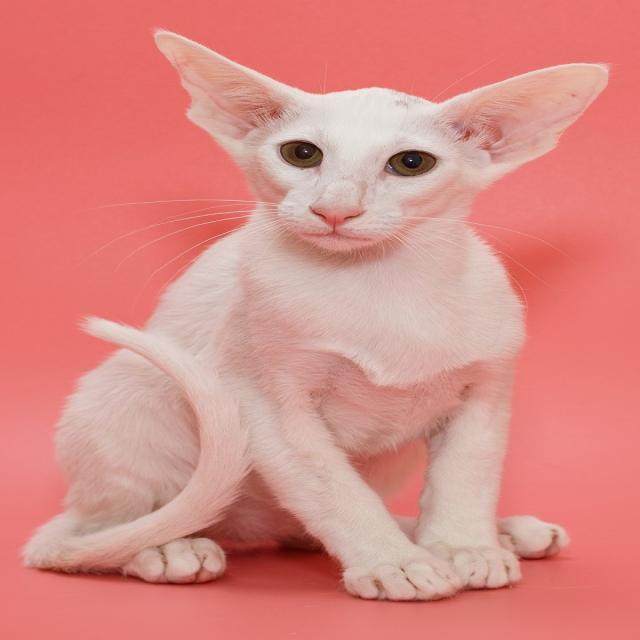Oriental: (17, 27, 614, 607)
